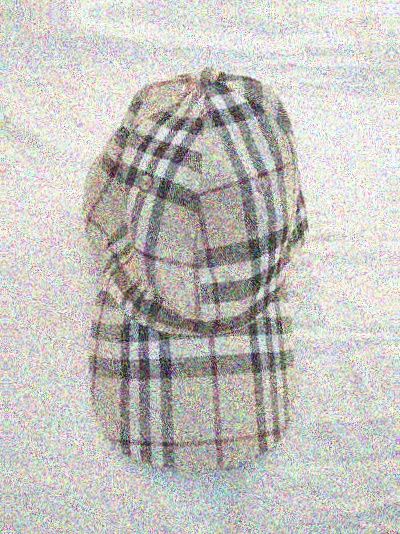Hat: (36, 66, 330, 487)
